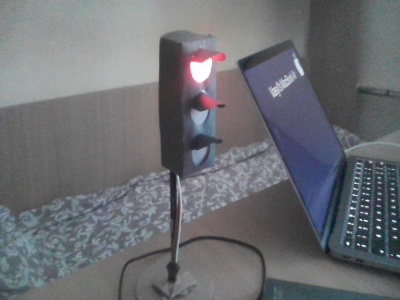trafficlight_red: (181, 40, 223, 175)
